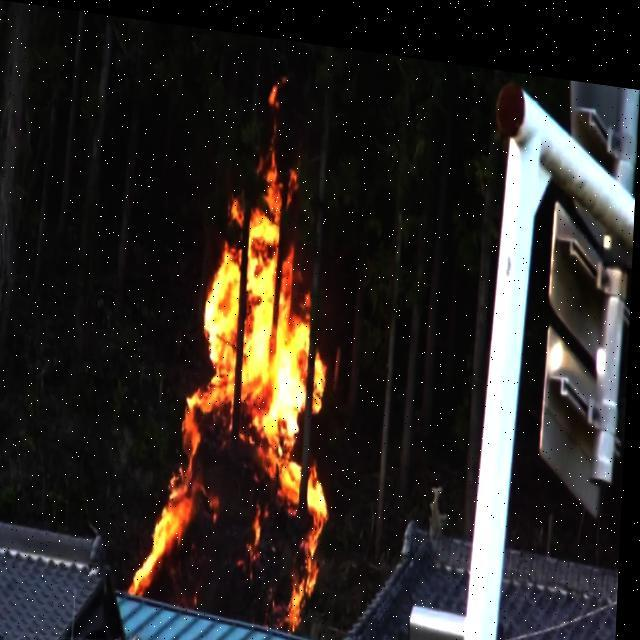Fire: (142, 47, 350, 624)
